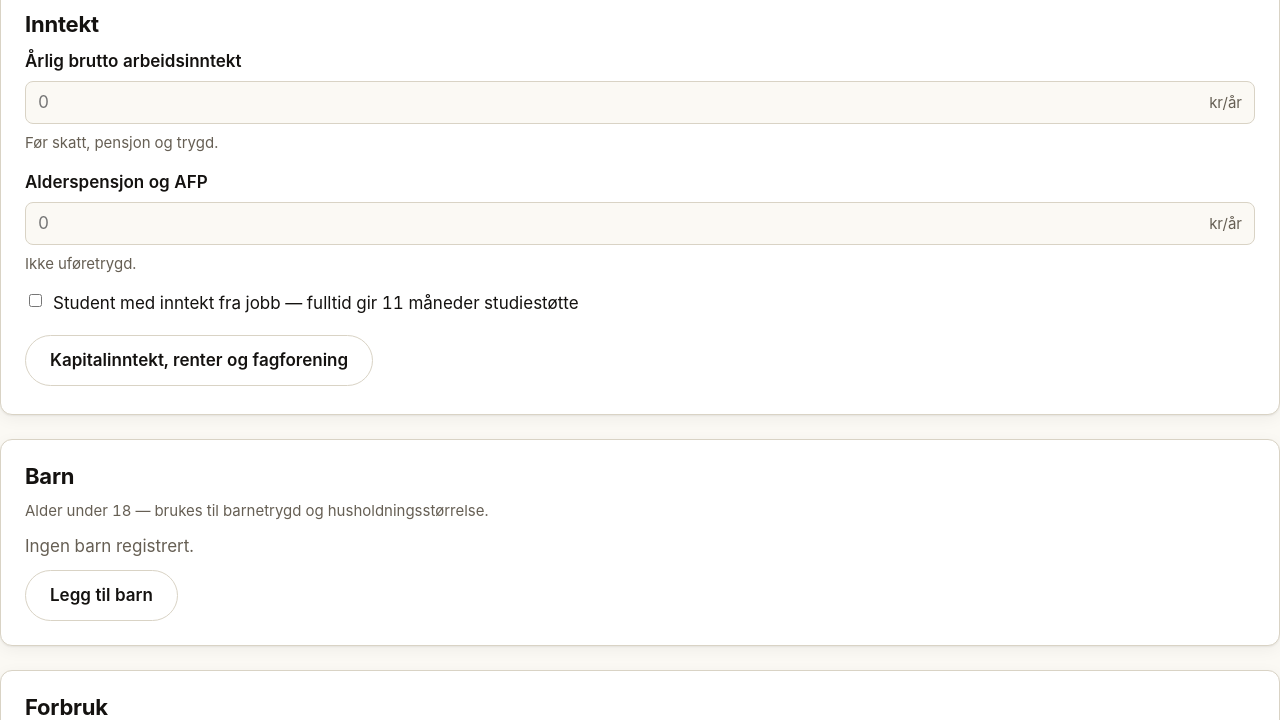
Scenario: AdultFields: capital/interest/union disclosure (L8) › aria-controls names the panel that contains the fields
This screenshot has width=1280, height=720.
(page scrolled)
Click the button "Kapitalinntekt, renter og fagforening": (199, 361) [25,335,373,386]
(page scrolled)
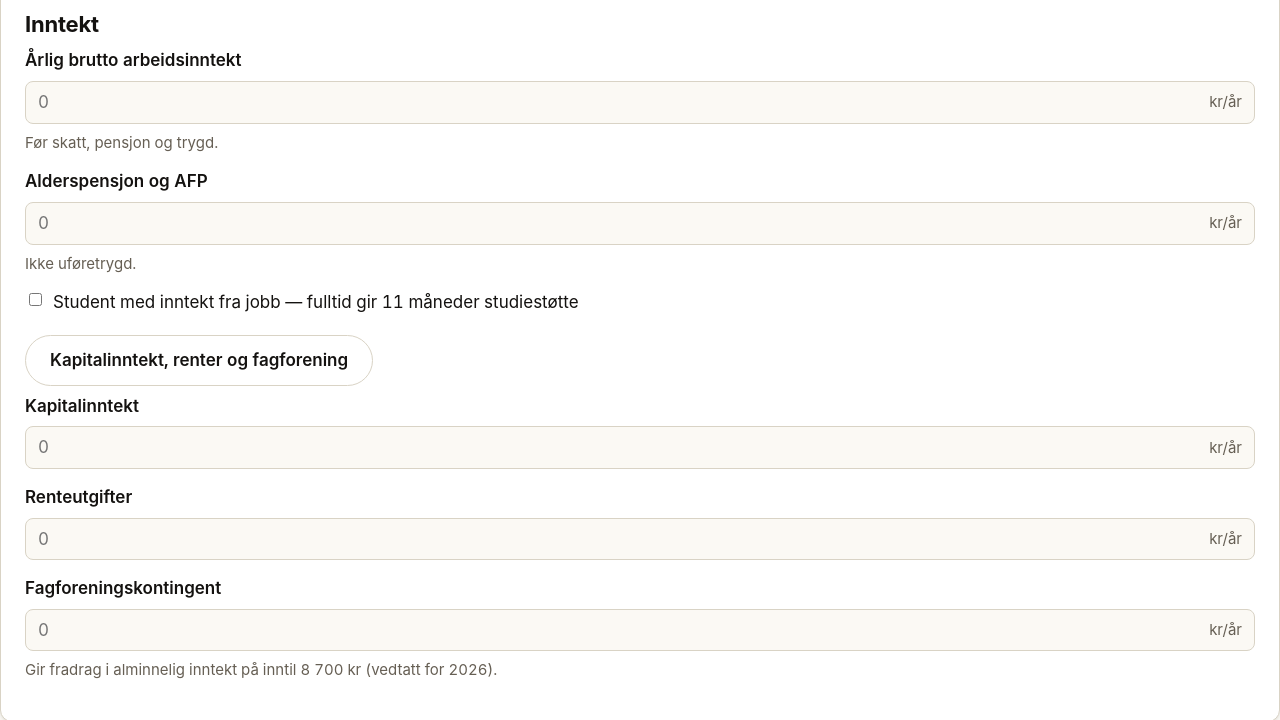
Check: the field with id "capital-0" is shown, box [38,435,1201,460]
